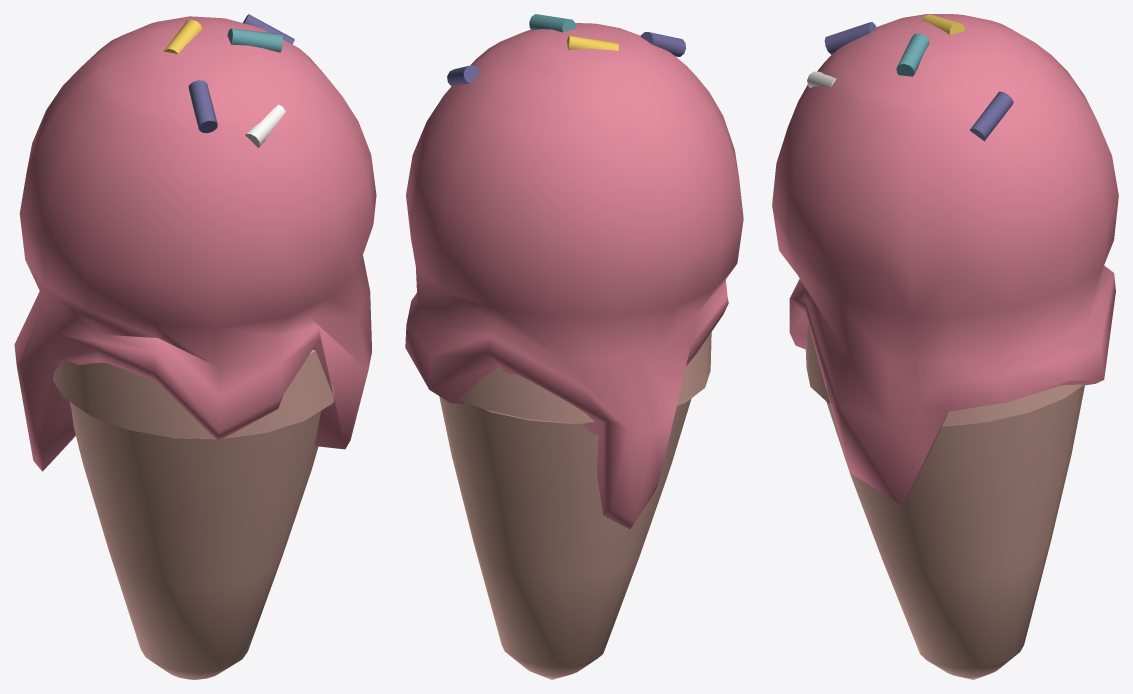
Rendered from Objet3_09.glb.
3 views of the same model, side by side, from view 1: azimuth 30°, elevation 25°; view 2: azimuth 150°, elevation 25°; view 3: azimuth 270°, elevation 25° (orthographic). The views are drawn at different scales.
Parts seen in each view (by area): view 1: Ice_Cream_1; view 2: Ice_Cream_1; view 3: Ice_Cream_1.
Part boxes in pixels (x1,y1,x2,y2): Ice_Cream_1: [14, 14, 376, 679]; Ice_Cream_1: [405, 14, 743, 679]; Ice_Cream_1: [772, 14, 1118, 679].
Bounding box in the file's own units: 304 × 626 × 301.
1 material, 1 textured.
